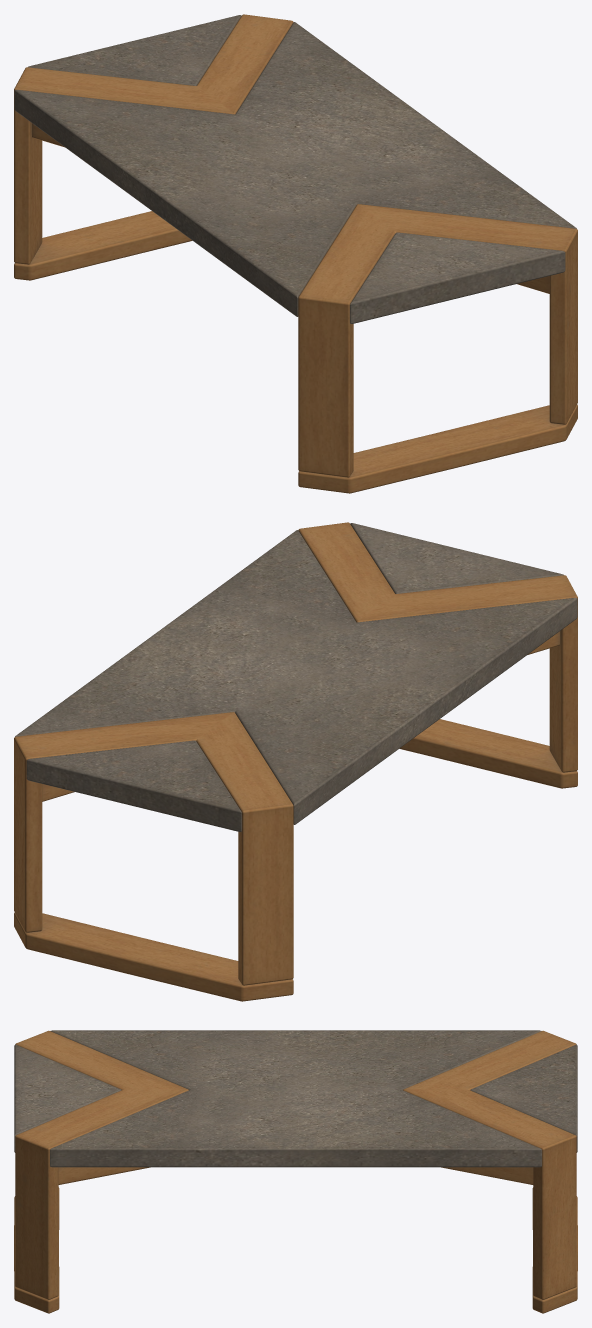
Rendered from modern_coffee_table_01.glb.
The picture shows the model from 3 angles, top to bottom: view 1: azimuth 30°, elevation 25°; view 2: azimuth 150°, elevation 25°; view 3: azimuth 270°, elevation 25°; orthographic projection. The views are drawn at different scales.
Parts seen in each view (by area): view 1: modern_coffee_table_01; view 2: modern_coffee_table_01; view 3: modern_coffee_table_01.
Boxes of the visible parts, x1,y1,x2,y2 form: modern_coffee_table_01: [14, 14, 577, 493]; modern_coffee_table_01: [14, 522, 577, 1001]; modern_coffee_table_01: [14, 1030, 577, 1313].
Size of the model in its own units: 0.6 by 0.39 by 1.2.
1 material, 1 textured.
